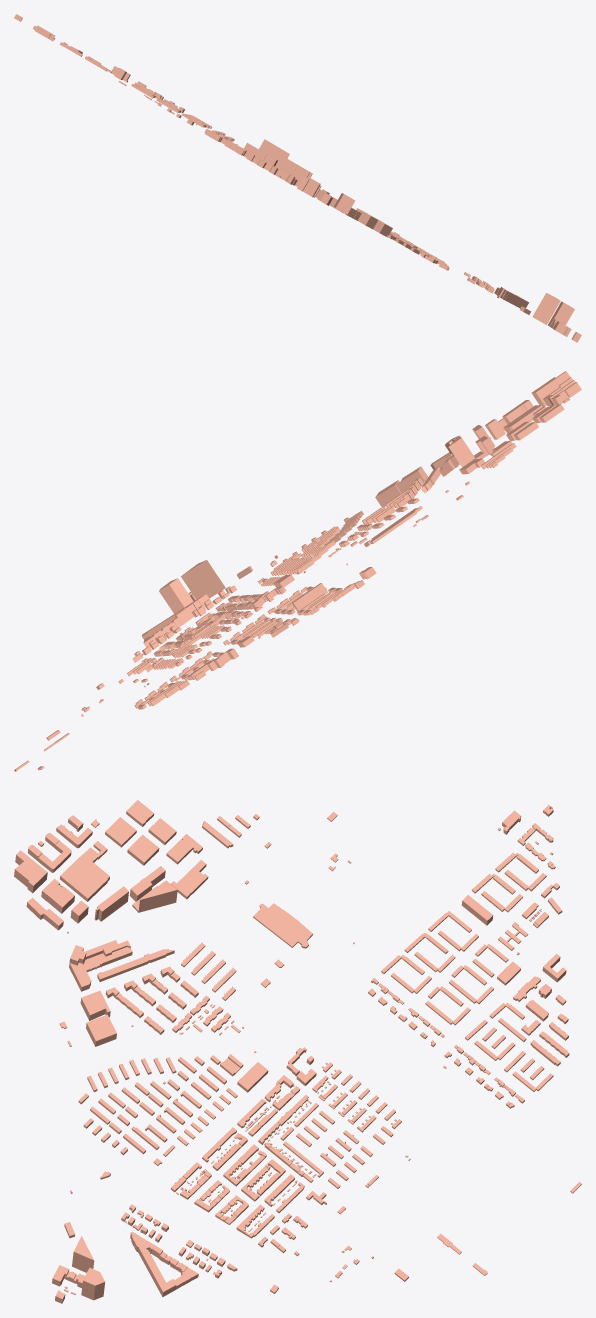
3 renders of one model, top to bottom at view 1: azimuth 30°, elevation 25°; view 2: azimuth 150°, elevation 25°; view 3: azimuth 270°, elevation 25°, orthographic. The views are drawn at different scales.
Size of the model in its own units: 1088 by 774 by 1270.
